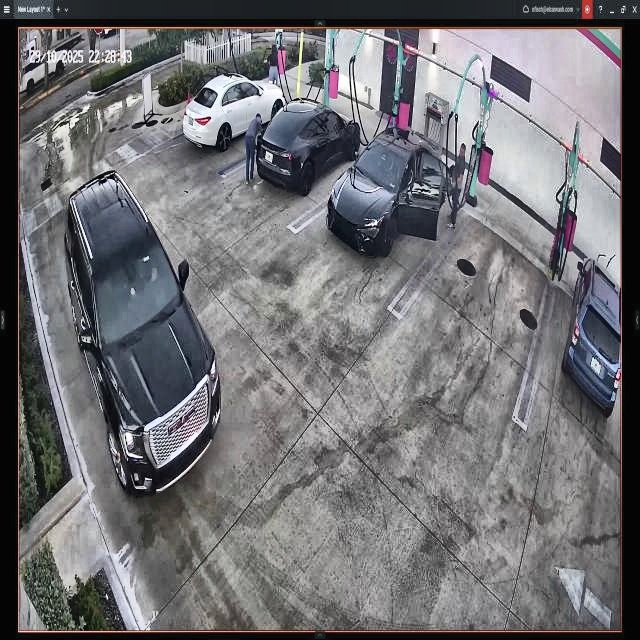Car: (64, 171, 221, 494), (327, 126, 453, 263), (260, 99, 360, 193), (184, 76, 286, 146)
